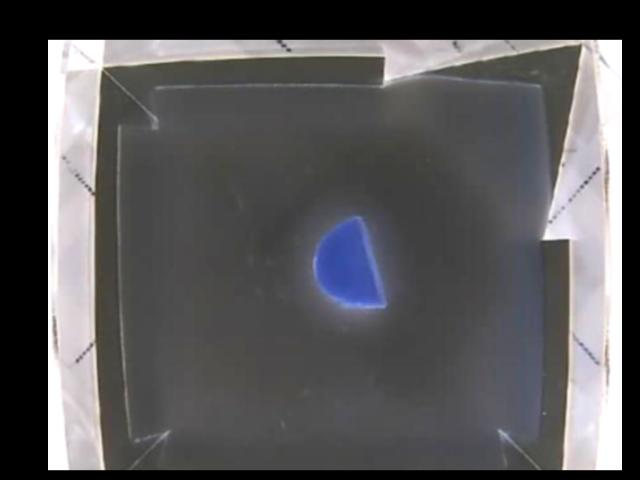Potato: (311, 216, 389, 306)
